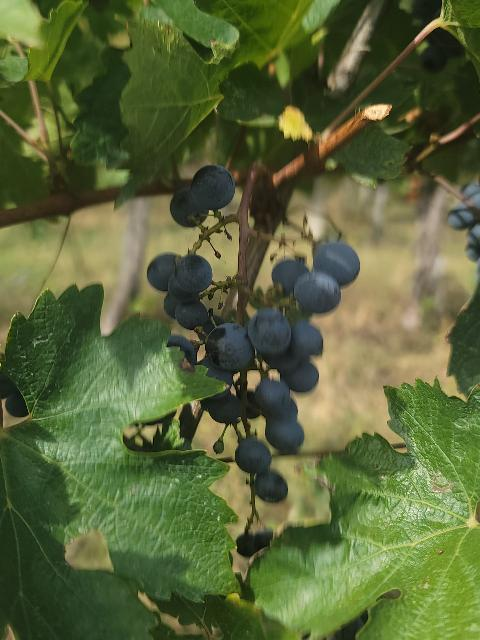grapes: (148, 241, 360, 454)
